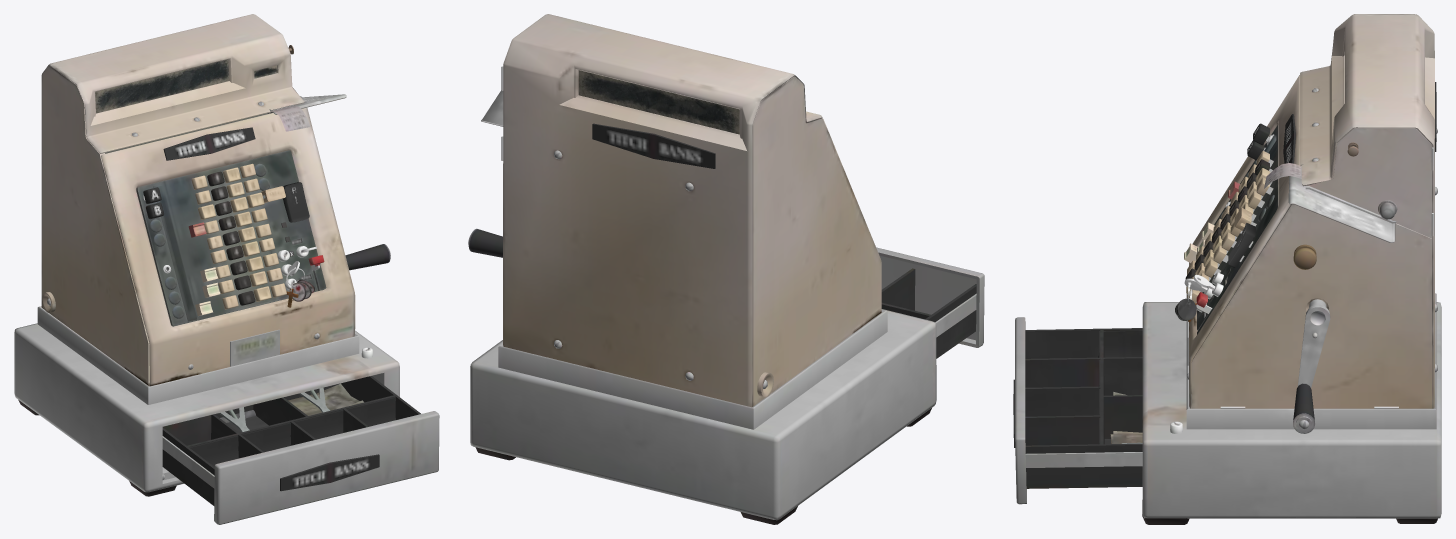
File: cashregister_01.glb
The picture shows the model from 3 angles, left to right: view 1: azimuth 30°, elevation 25°; view 2: azimuth 150°, elevation 25°; view 3: azimuth 270°, elevation 25°; orthographic projection. The views are drawn at different scales.
Visible parts, largest first — view 1: CashRegister_01_body; view 2: CashRegister_01_body; view 3: CashRegister_01_body.
Boxes of the visible parts, x1=… form: CashRegister_01_body: x1=14, y1=14, x2=439, y2=524; CashRegister_01_body: x1=468, y1=14, x2=984, y2=524; CashRegister_01_body: x1=1013, y1=14, x2=1441, y2=524.
Size of the model in its own units: 0.6005 by 0.6214 by 0.6242.
Materials: 2 (2 with a texture image).
